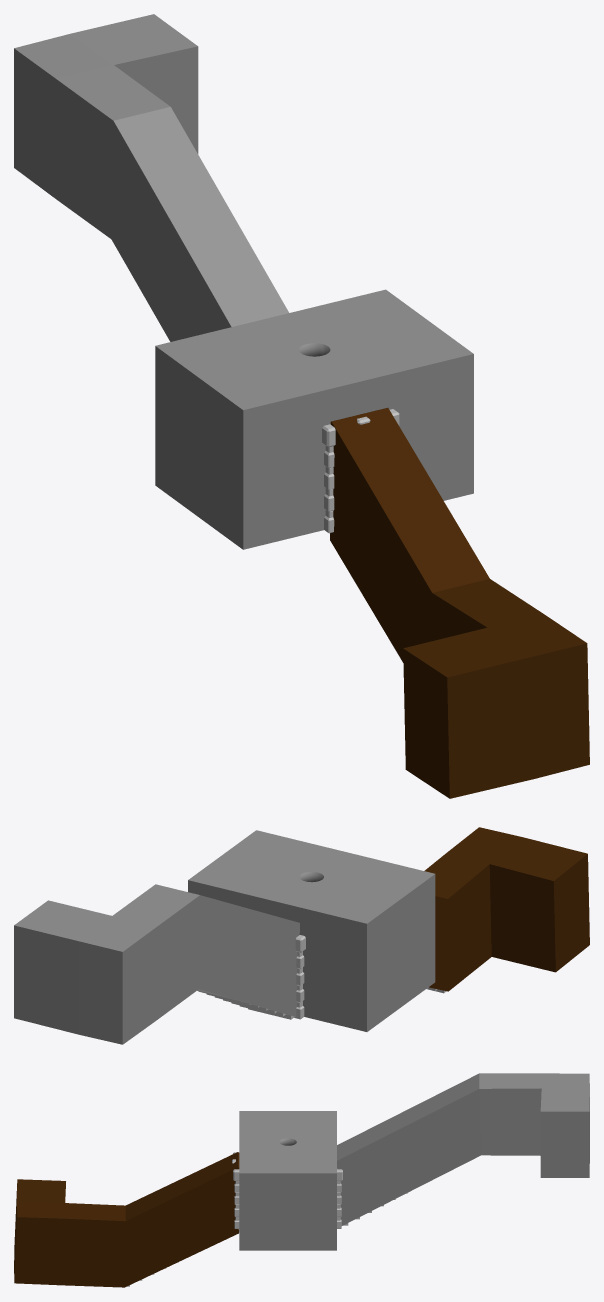
The model's file is TemplioNoBool.fbx.
3 views of the same model, one above another, from view 1: azimuth 30°, elevation 25°; view 2: azimuth 150°, elevation 25°; view 3: azimuth 270°, elevation 25° (orthographic). The views are drawn at different scales.
Visible parts, largest first — view 1: Templio.001, CorridoioScalini.001, CorridoioScalini; view 2: CorridoioScalini, Templio.001, CorridoioScalini.001, Ingresso.001, Scale; view 3: CorridoioScalini, CorridoioScalini.001, Templio.001.
Part boxes in pixels (box(x1,y1,x2,y2)): Templio.001: box(155, 289, 473, 549); CorridoioScalini.001: box(330, 408, 589, 798); CorridoioScalini: box(14, 14, 288, 341); CorridoioScalini: box(14, 884, 299, 1044); Templio.001: box(188, 830, 435, 1031); CorridoioScalini.001: box(424, 827, 589, 991); Ingresso.001: box(294, 951, 304, 1019); Scale: box(198, 991, 294, 1019); CorridoioScalini: box(337, 1073, 589, 1225); CorridoioScalini.001: box(14, 1152, 239, 1287); Templio.001: box(239, 1111, 336, 1250).
Bounding box in the file's own units: 623 × 926 × 2430.
Materials: 3 (3 with a texture image).
